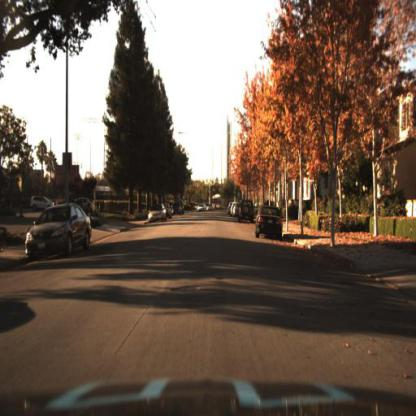car: (22, 197, 97, 266), (250, 197, 287, 244), (32, 192, 58, 215), (238, 197, 256, 223), (148, 202, 168, 223), (165, 197, 177, 221), (172, 200, 183, 216)
